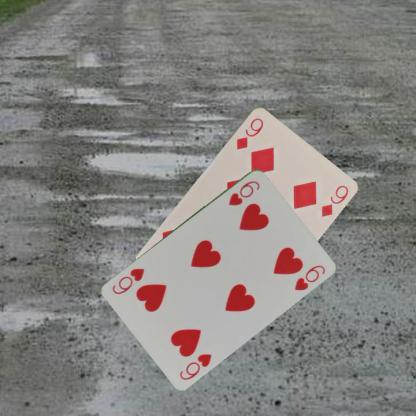6h: (177, 350, 213, 381), (225, 177, 261, 207)
9d: (234, 114, 266, 151)
